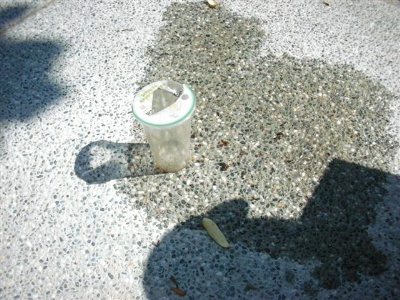bottle: (132, 80, 196, 172)
